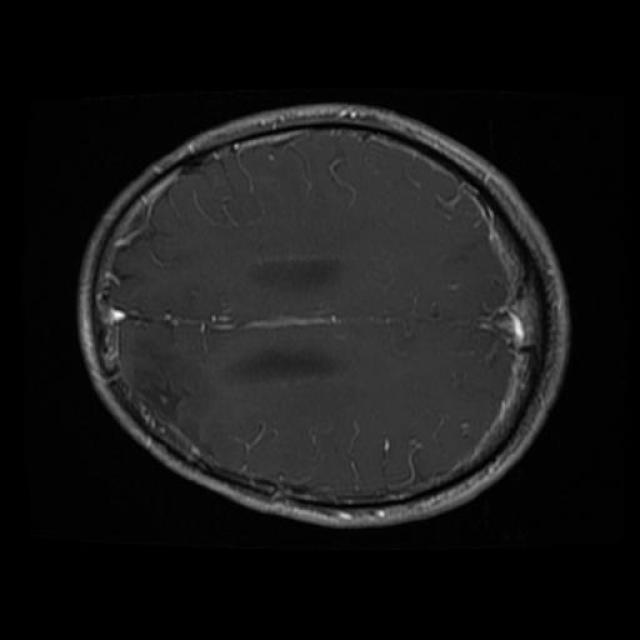Glioma: (136, 343, 196, 420)
